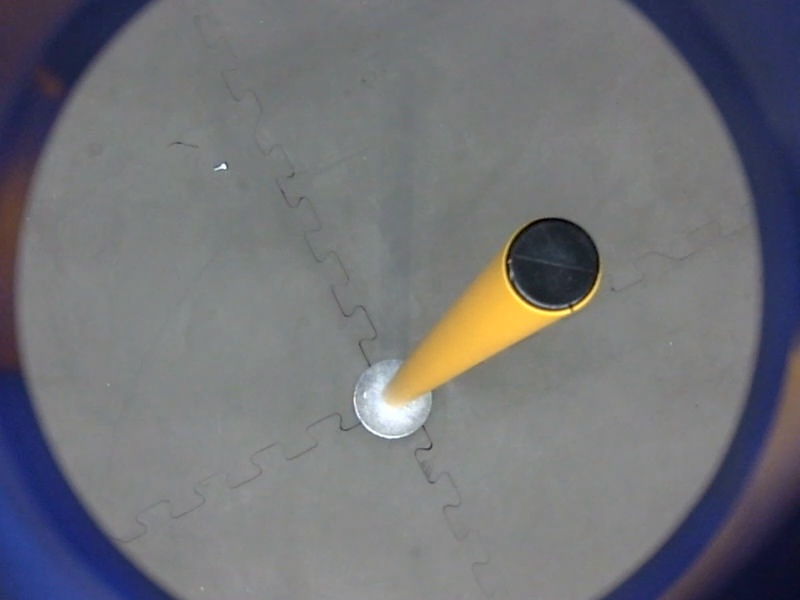tip: (493, 212, 607, 318)
